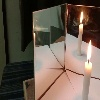fire: (87, 40, 92, 65)
